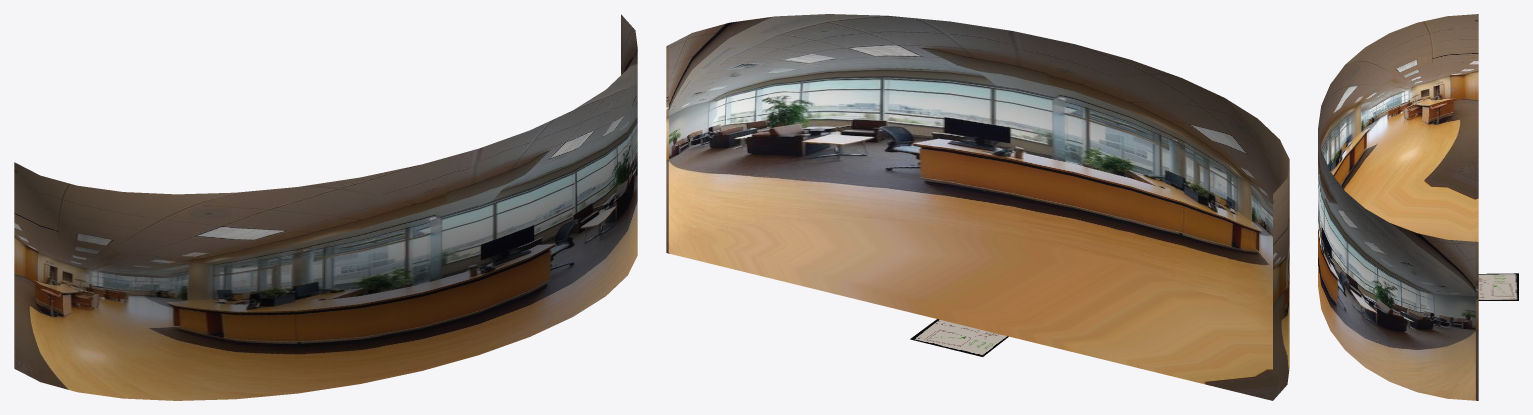
The model's file is officeBG.glb.
The picture shows the model from 3 angles, left to right: view 1: azimuth 30°, elevation 25°; view 2: azimuth 150°, elevation 25°; view 3: azimuth 270°, elevation 25°; orthographic projection. The views are drawn at different scales.
Parts seen in each view (by area): view 1: Back wall; view 2: Back wall, Cube; view 3: Back wall, Cube.
Boxes of the visible parts, x1,y1,x2,y2 form: Back wall: (14,14,637,400); Back wall: (666,14,1289,400); Cube: (910,319,1008,356); Back wall: (1318,14,1478,400); Cube: (1478,273,1518,300).
Bounding box in the file's own units: 4.34 × 1.42 × 1.62.
2 materials, 2 textured.
